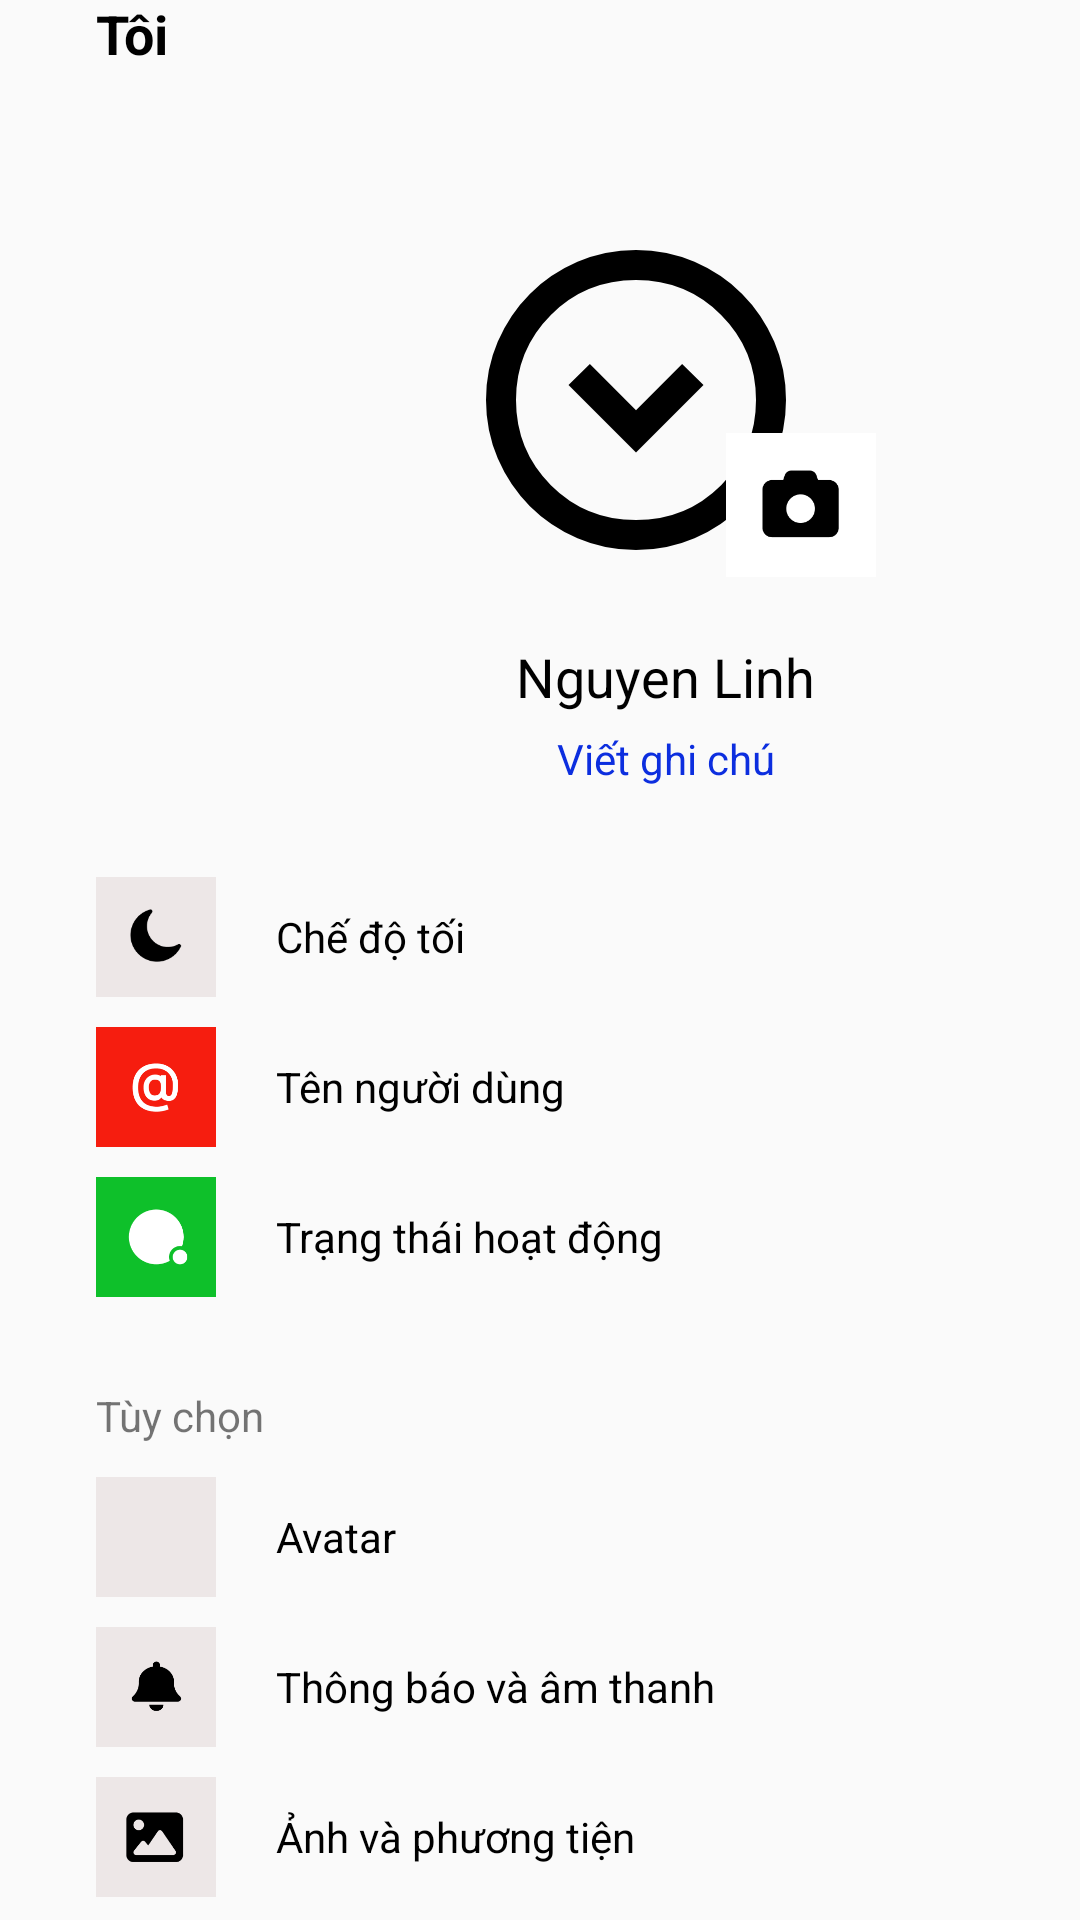

Named icons in this screenshot (1080x1920) and their centers, point (x, y):
notify: point (156, 1686)
username: point (156, 1087)
